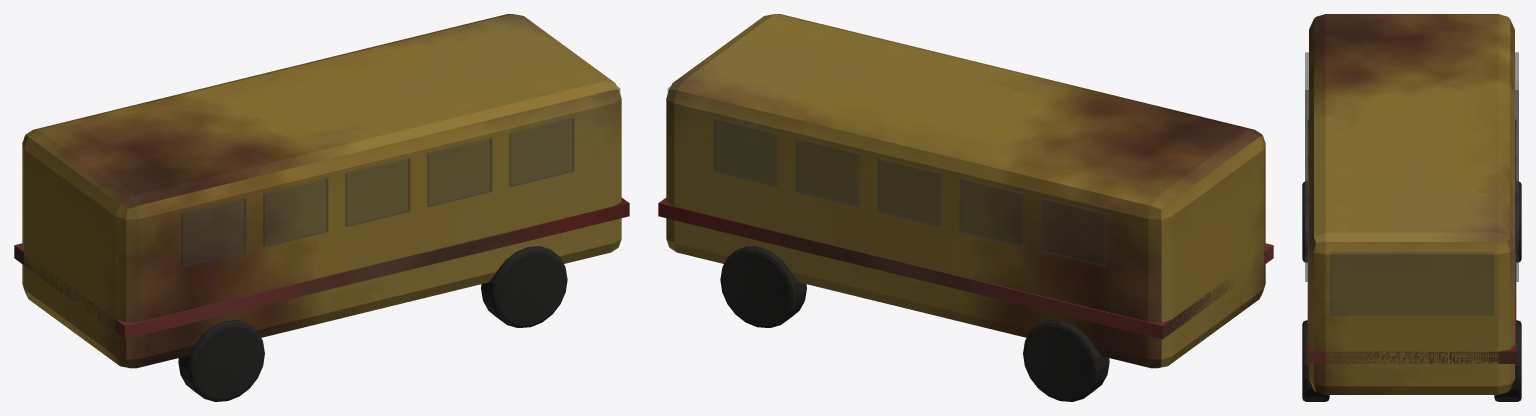
File: TY21_ToyBus.glb
3 views of the same model, side by side, from view 1: azimuth 30°, elevation 25°; view 2: azimuth 150°, elevation 25°; view 3: azimuth 270°, elevation 25° (orthographic). The views are drawn at different scales.
Parts seen in each view (by area): view 1: TY21_ToyBus; view 2: TY21_ToyBus; view 3: TY21_ToyBus.
Boxes of the visible parts, bbox=[...] form: TY21_ToyBus: bbox=[14, 14, 629, 401]; TY21_ToyBus: bbox=[658, 14, 1273, 401]; TY21_ToyBus: bbox=[1302, 14, 1521, 401].
Bounding box in the file's own units: 0.4 × 0.1642 × 0.1592.
4 materials, 4 textured.
